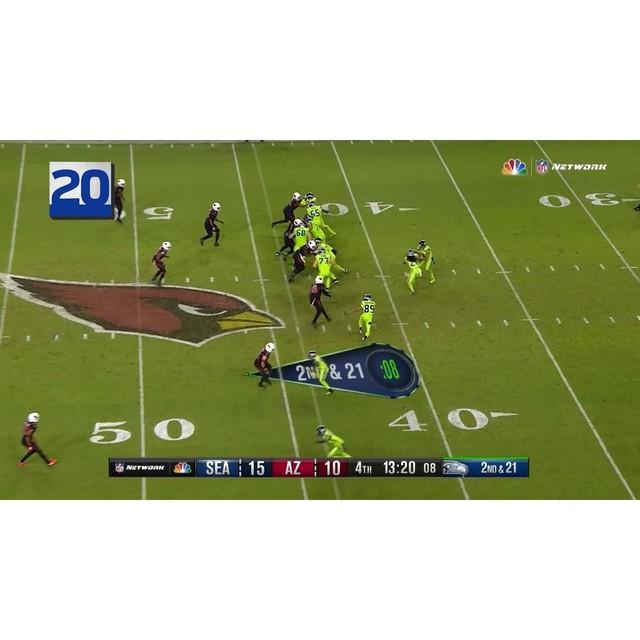american-football-player: (18, 412, 56, 467), (286, 238, 319, 283), (305, 194, 337, 238), (312, 425, 350, 458), (307, 349, 334, 395), (309, 276, 332, 329), (274, 218, 304, 258), (314, 247, 340, 292), (271, 192, 303, 228), (253, 342, 276, 390), (200, 202, 223, 247), (416, 238, 436, 285), (402, 248, 422, 295), (151, 241, 172, 285), (357, 294, 375, 343), (112, 178, 127, 224)
